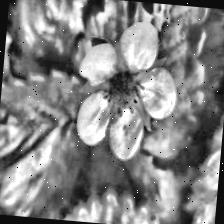Blossom Blight: (99, 62, 150, 120)
